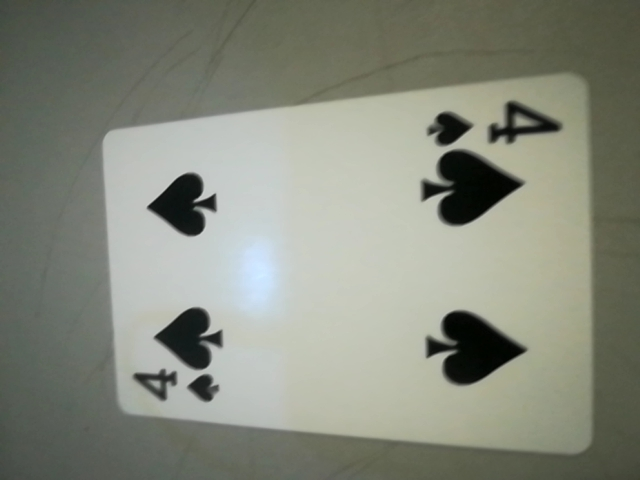ht 4: (412, 94, 574, 158)
